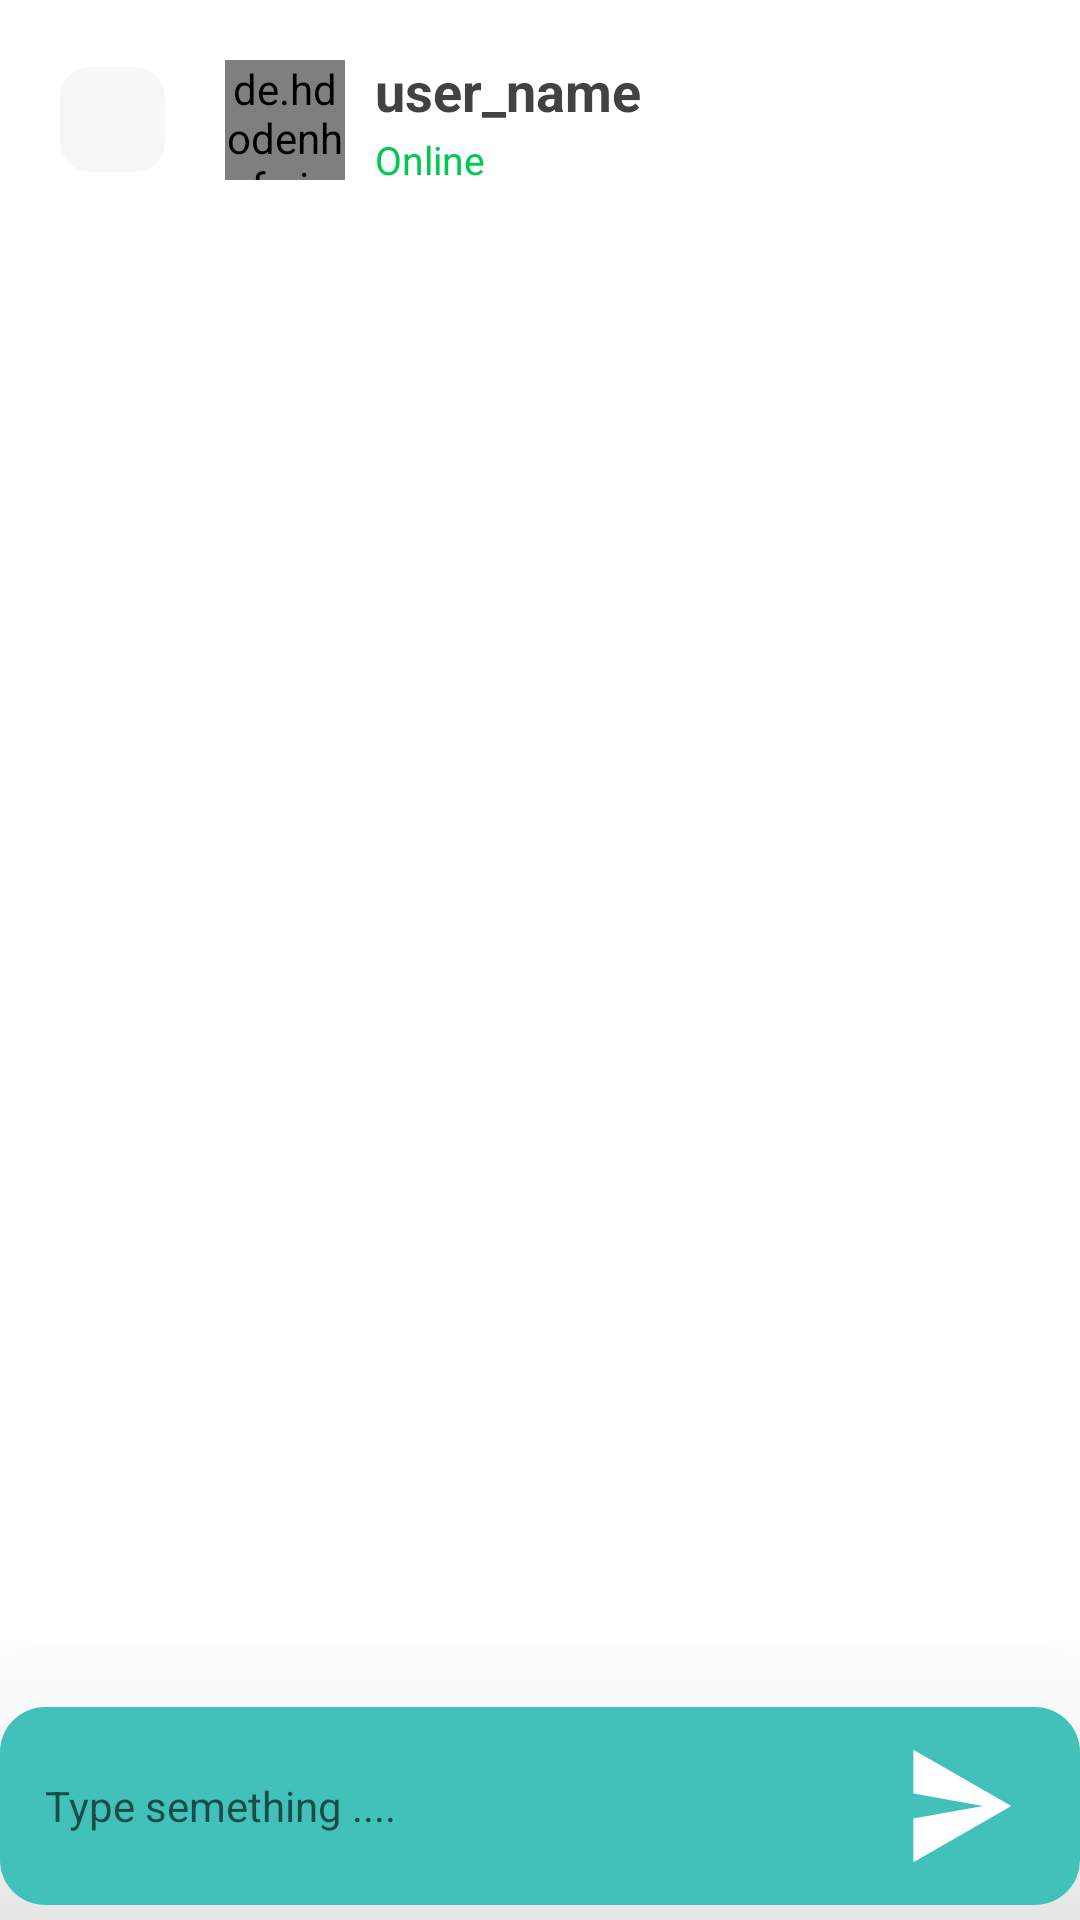

Icon click points for this 1080 x 1920 phone screenshot, format (x,y):
send: (962,1806)
